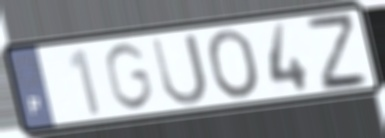1: (67, 46, 102, 118)
4: (265, 20, 315, 95)
G: (101, 40, 156, 113)
O: (203, 26, 263, 101)
U: (148, 30, 211, 109)
Z: (302, 12, 374, 94)
